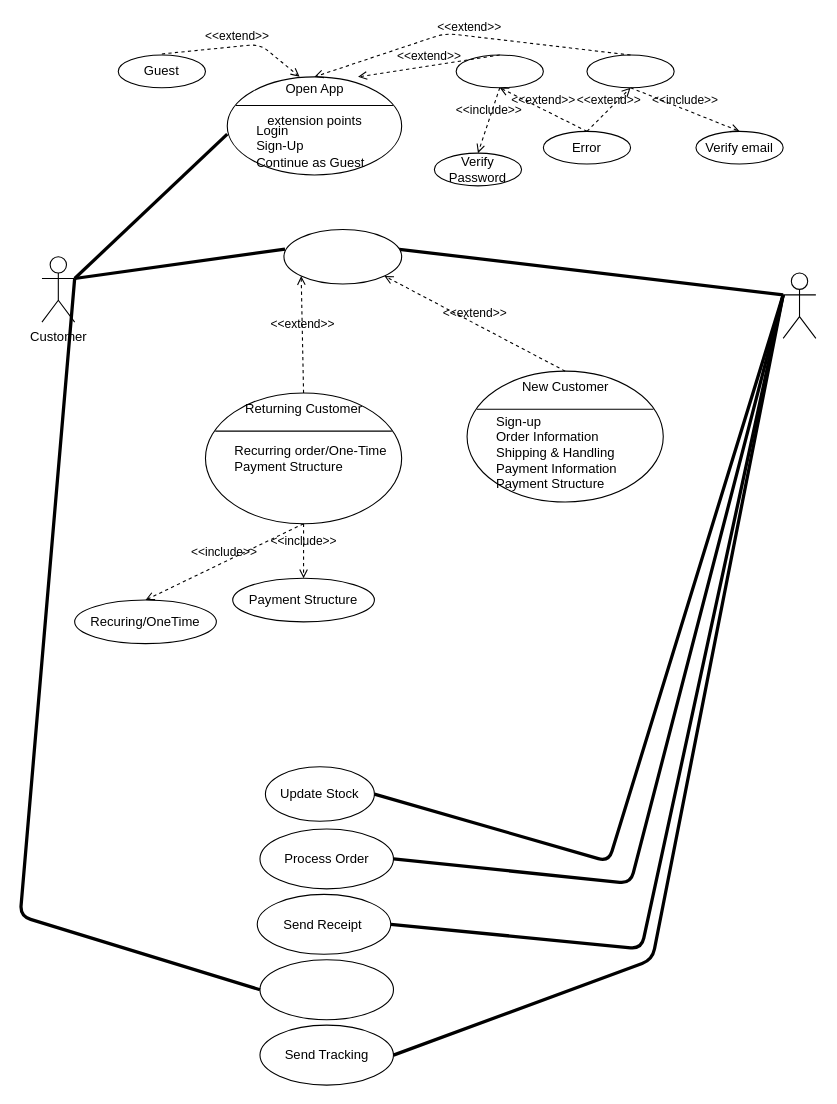
The diagram is 837 pixels wide and 1104 high, and some of its shapes have lost their labels. The shapes that lost their labels are listed below. From the top down, each one's centre as x and y in pixels, then its label:
At point 499,71: "Login".
At point 630,71: "Sign-Up".
At point 342,256: "Purchase Order".
At point 799,305: "Admin".
At point 326,989: "Request Tracking".
